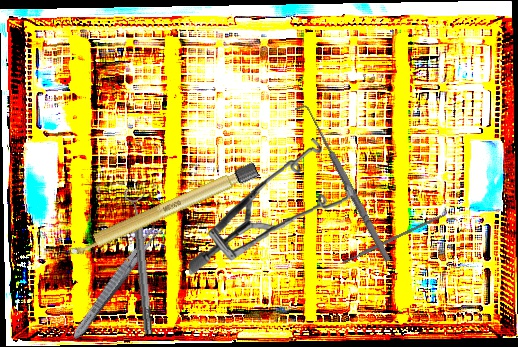Dressing Forceps: (68, 219, 164, 344)
Fixation Ring: (123, 187, 159, 336)
Hook Surgical: (294, 100, 394, 267)
Scalpel Handle: (62, 160, 262, 261), (341, 212, 446, 265)
Speculum: (184, 137, 356, 275)
